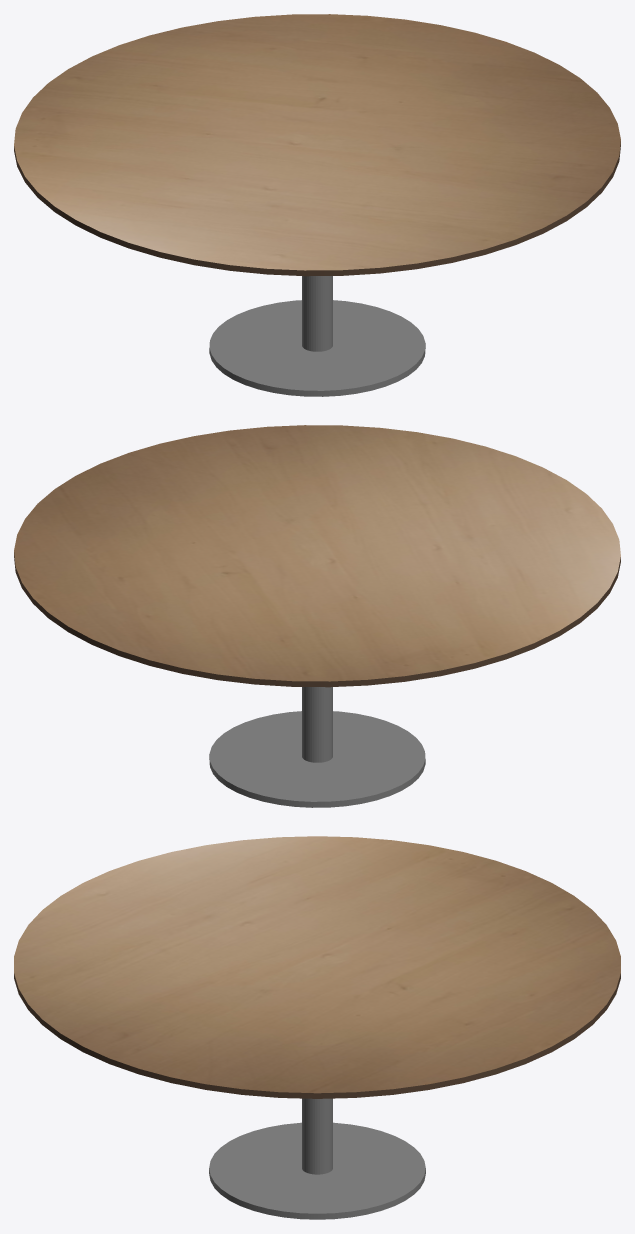
File: HagaTable.fbx
3 views of the same model, one above another, from view 1: azimuth 30°, elevation 25°; view 2: azimuth 150°, elevation 25°; view 3: azimuth 270°, elevation 25° (orthographic).
Parts seen in each view (by area): view 1: pGear2; view 2: pGear2; view 3: pGear2.
Part boxes in pixels (left/top/right/bottom): pGear2: left=14, top=14, right=620, bottom=396; pGear2: left=14, top=425, right=620, bottom=807; pGear2: left=14, top=836, right=620, bottom=1219.
Bounding box in the file's own units: 182 × 69.03 × 181.
